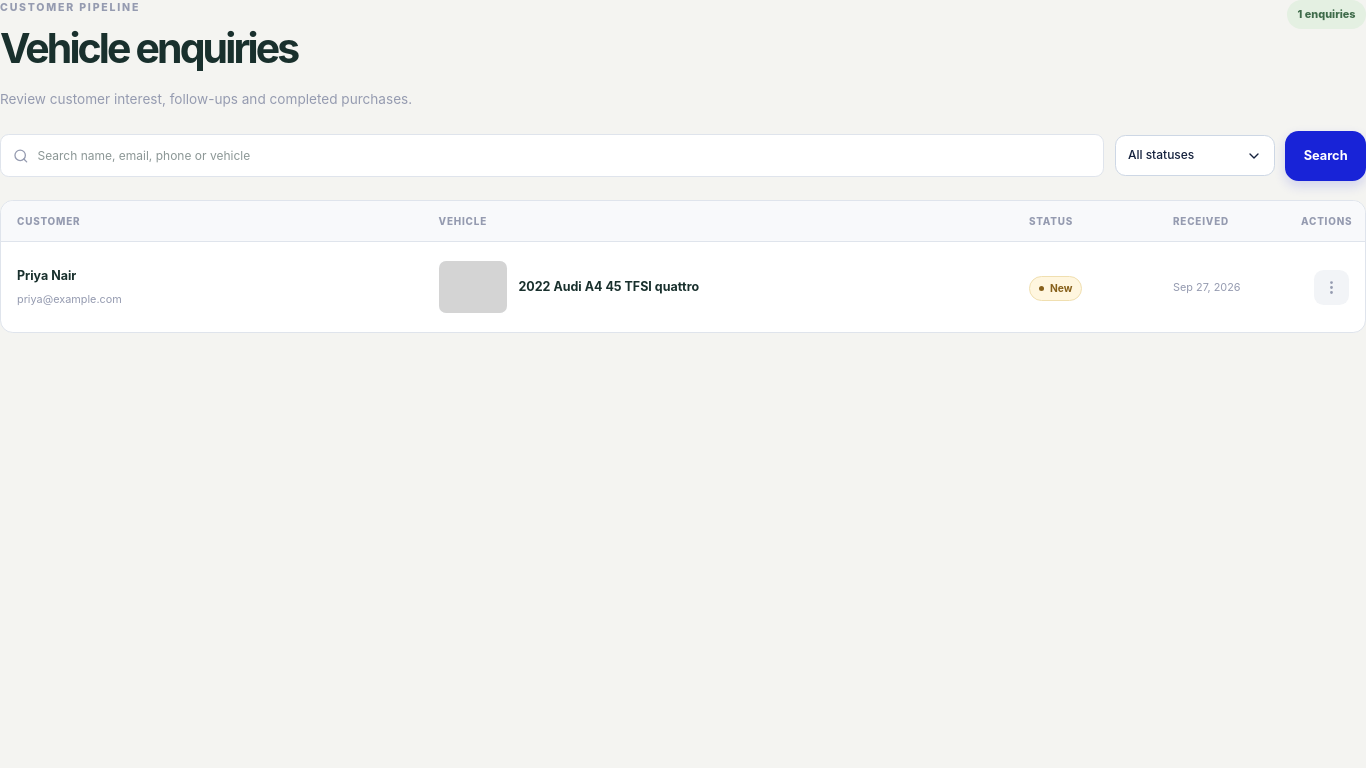
AdminEnquiriesPanel › renders a listing with customer details and vehicle navigation targets
Expected: the heading "Vehicle enquiries" is shown, top-left (0, 23), bottom-right (297, 73)
Expected: the picture with alt text "White Audi A4" is shown, top-left (438, 261), bottom-right (507, 313)
Click the button "Priya Nair" at (47, 276), box top-left (17, 267), bottom-right (422, 286)
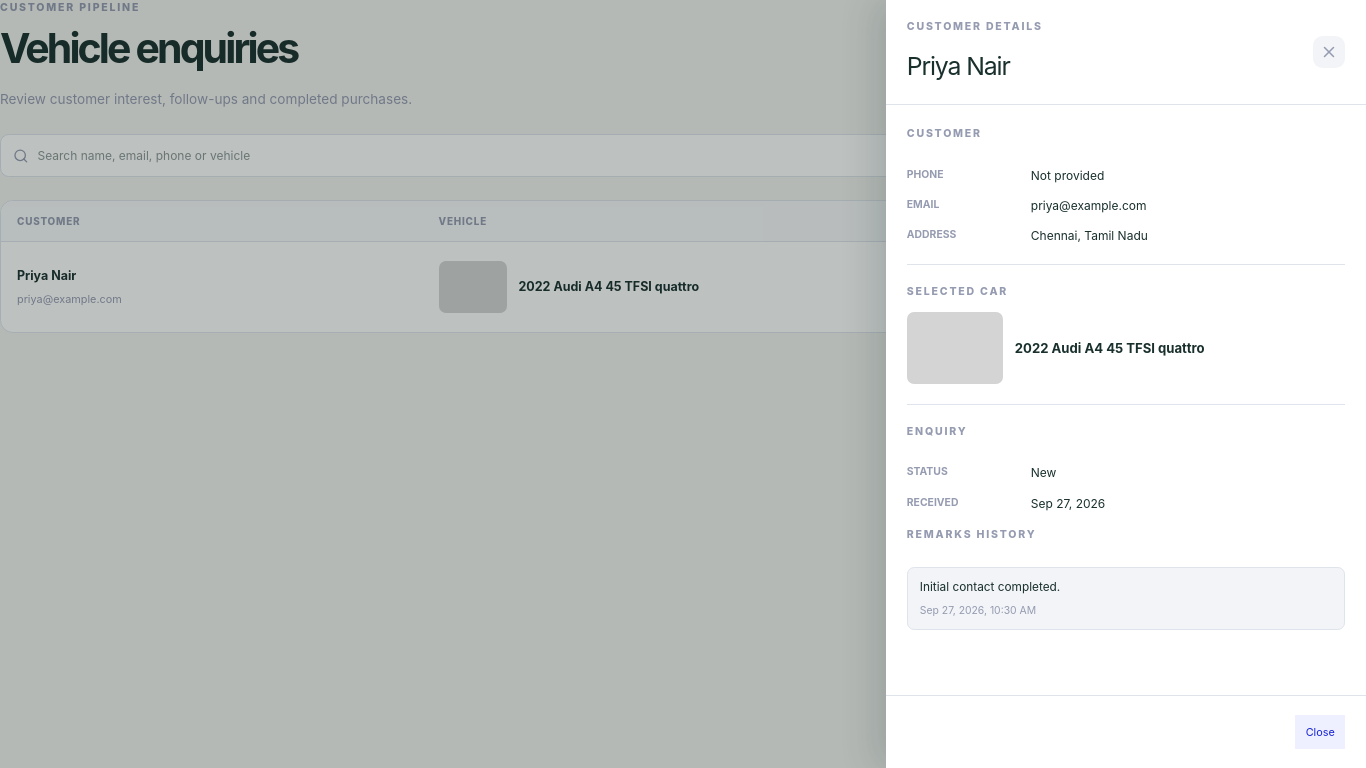
Now the dialog is shown, box top-left (886, 0), bottom-right (1365, 767)
Now the text "Chennai, Tamil Nadu" is shown, box top-left (1031, 228), bottom-right (1148, 243)
Now the text "Initial contact completed." is shown, box top-left (920, 580), bottom-right (1060, 594)
